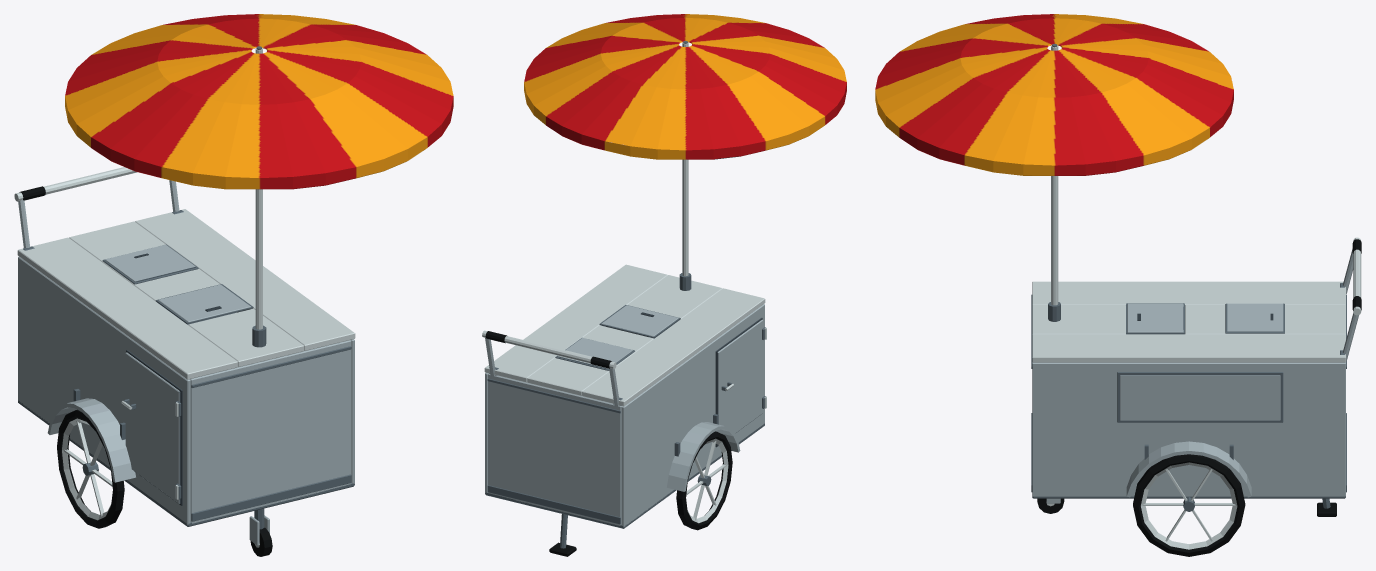
The model's file is FoodCart.fbx.
The picture shows the model from 3 angles, left to right: view 1: azimuth 30°, elevation 25°; view 2: azimuth 150°, elevation 25°; view 3: azimuth 270°, elevation 25°; orthographic projection. The views are drawn at different scales.
Visible parts, largest first — view 1: Cart_Body, Cart_Wheel_R, Cart_Lid; view 2: Cart_Body, Cart_Wheel_R, Cart_Lid; view 3: Cart_Body, Cart_Wheel_L, Cart_Lid.
Part boxes in pixels (x1,y1,x2,y2): Cart_Body: (14,14,453,556); Cart_Wheel_R: (57,409,124,528); Cart_Lid: (158,284,250,322); Cart_Body: (482,14,846,556); Cart_Wheel_R: (676,431,732,530); Cart_Lid: (601,305,678,336); Cart_Body: (875,14,1361,516); Cart_Wheel_L: (1133,454,1245,556); Cart_Lid: (1127,303,1183,332).
Size of what is drawn, in the model's own units: 1.6 by 2.3 by 2.17.
1 material, 1 textured.
